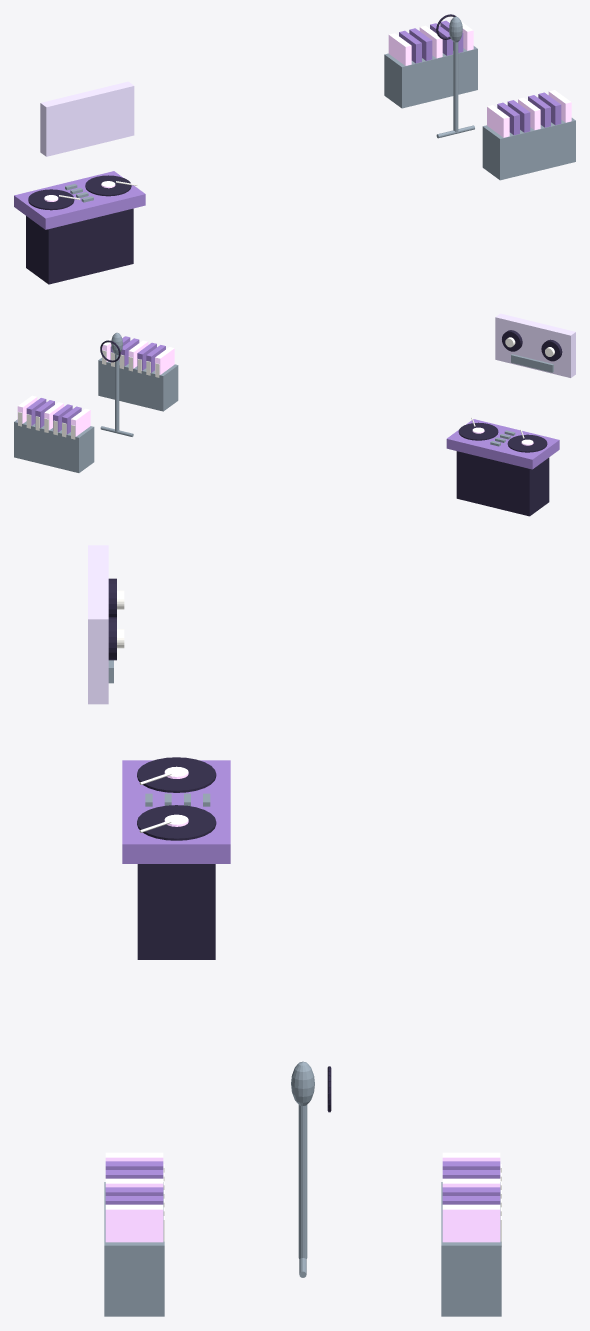
Rendered from studio-props-hiphop.glb.
3 views of the same model, one above another, from view 1: azimuth 30°, elevation 25°; view 2: azimuth 150°, elevation 25°; view 3: azimuth 270°, elevation 25° (orthographic). The views are drawn at different scales.
Parts seen in each view (by area): view 1: hiphop original studio collection; view 2: hiphop original studio collection; view 3: hiphop original studio collection.
Boxes of the visible parts, x1,y1,x2,y2 form: hiphop original studio collection: (14, 14, 575, 284); hiphop original studio collection: (14, 313, 575, 516); hiphop original studio collection: (88, 545, 501, 1316).
Size of the model in its own units: 8.8 by 3.02 by 3.44.
